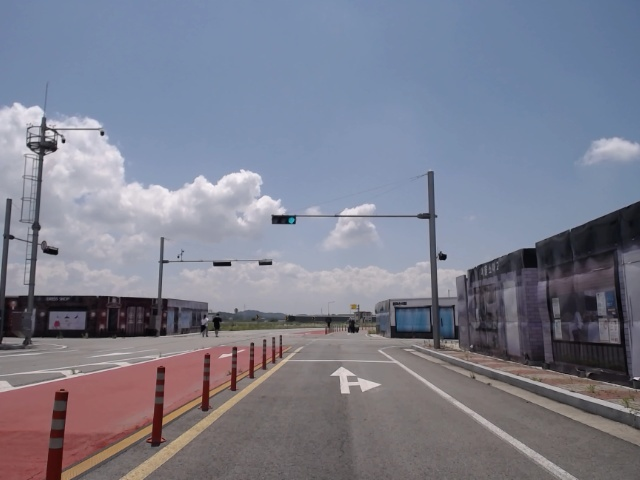green_3: (271, 216, 296, 224)
